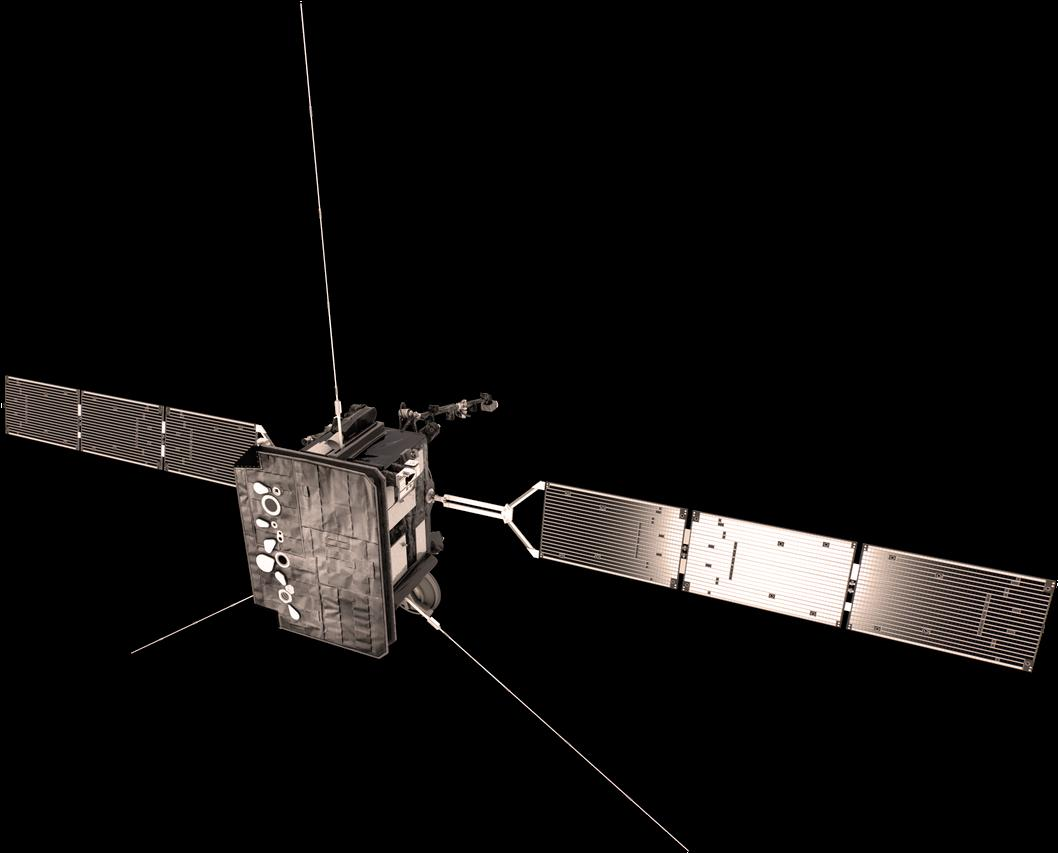antenna: (407, 595, 693, 853), (298, 2, 345, 454), (128, 592, 255, 659), (397, 390, 500, 425), (396, 570, 443, 616)
body: (232, 401, 446, 661)
solar: (536, 479, 1058, 675), (3, 373, 258, 491)
thruster: (325, 430, 344, 451)
